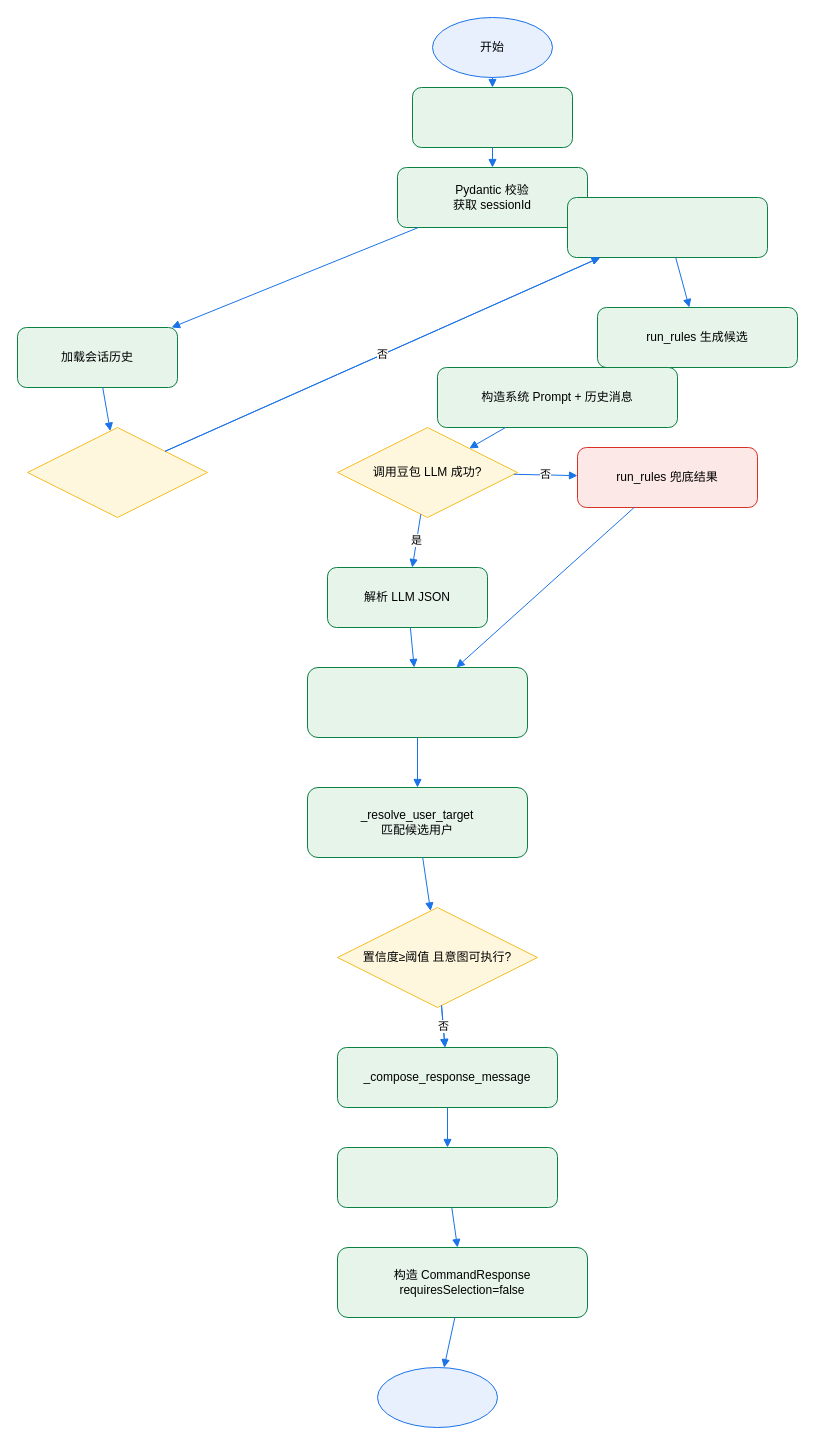
The diagram is 815 pixels wide and 1445 high, and some of its shapes have lost their labels. Here are the shapes that lost their labels. From the top down, the centre of each, then its label:
At point 492,117: "接收 POST /api/command".
At point 667,227: "IntentClassifier.classify".
At point 117,472: "请求包含 user 候选?".
At point 417,702: "_merge_results 整合规则与 LLM 输出".
At point 447,1177: "ConversationManager.update_state".
At point 437,1397: "结束".
